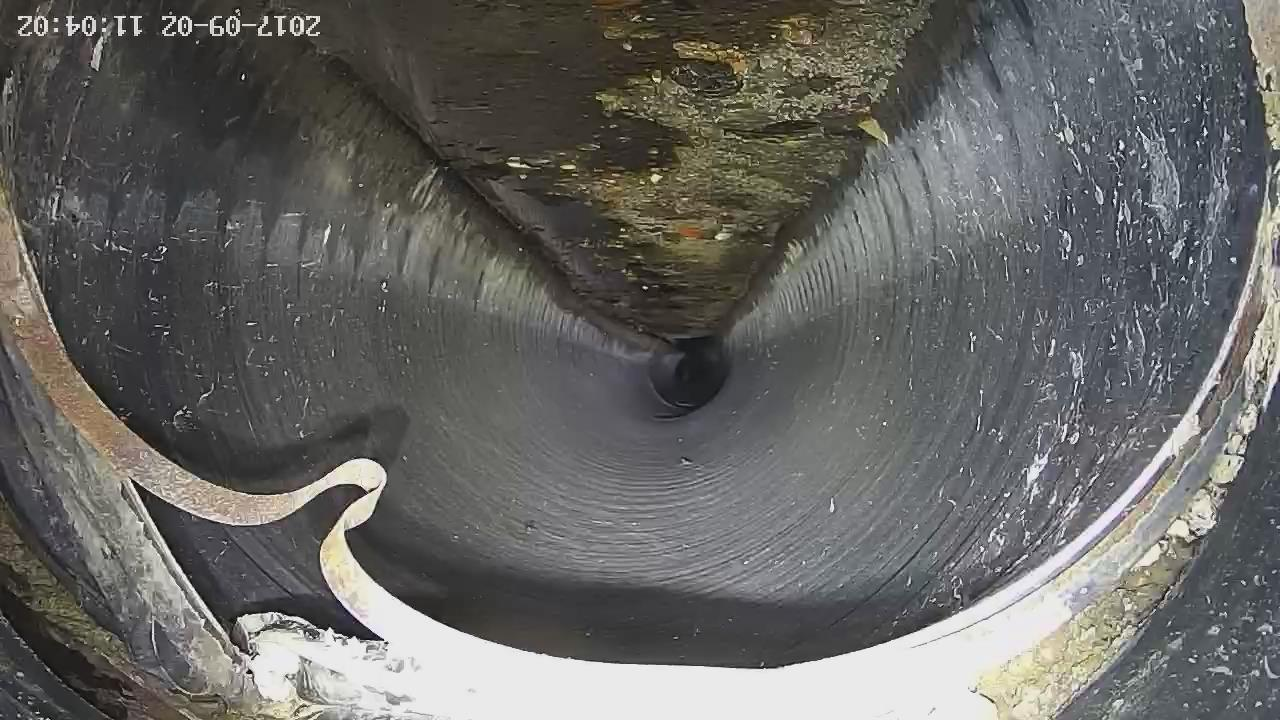CJ: (270, 1, 930, 339)
